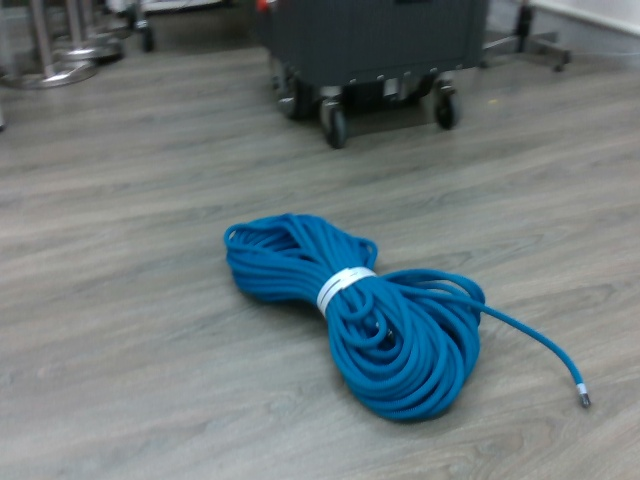rope: (221, 206, 492, 431)
